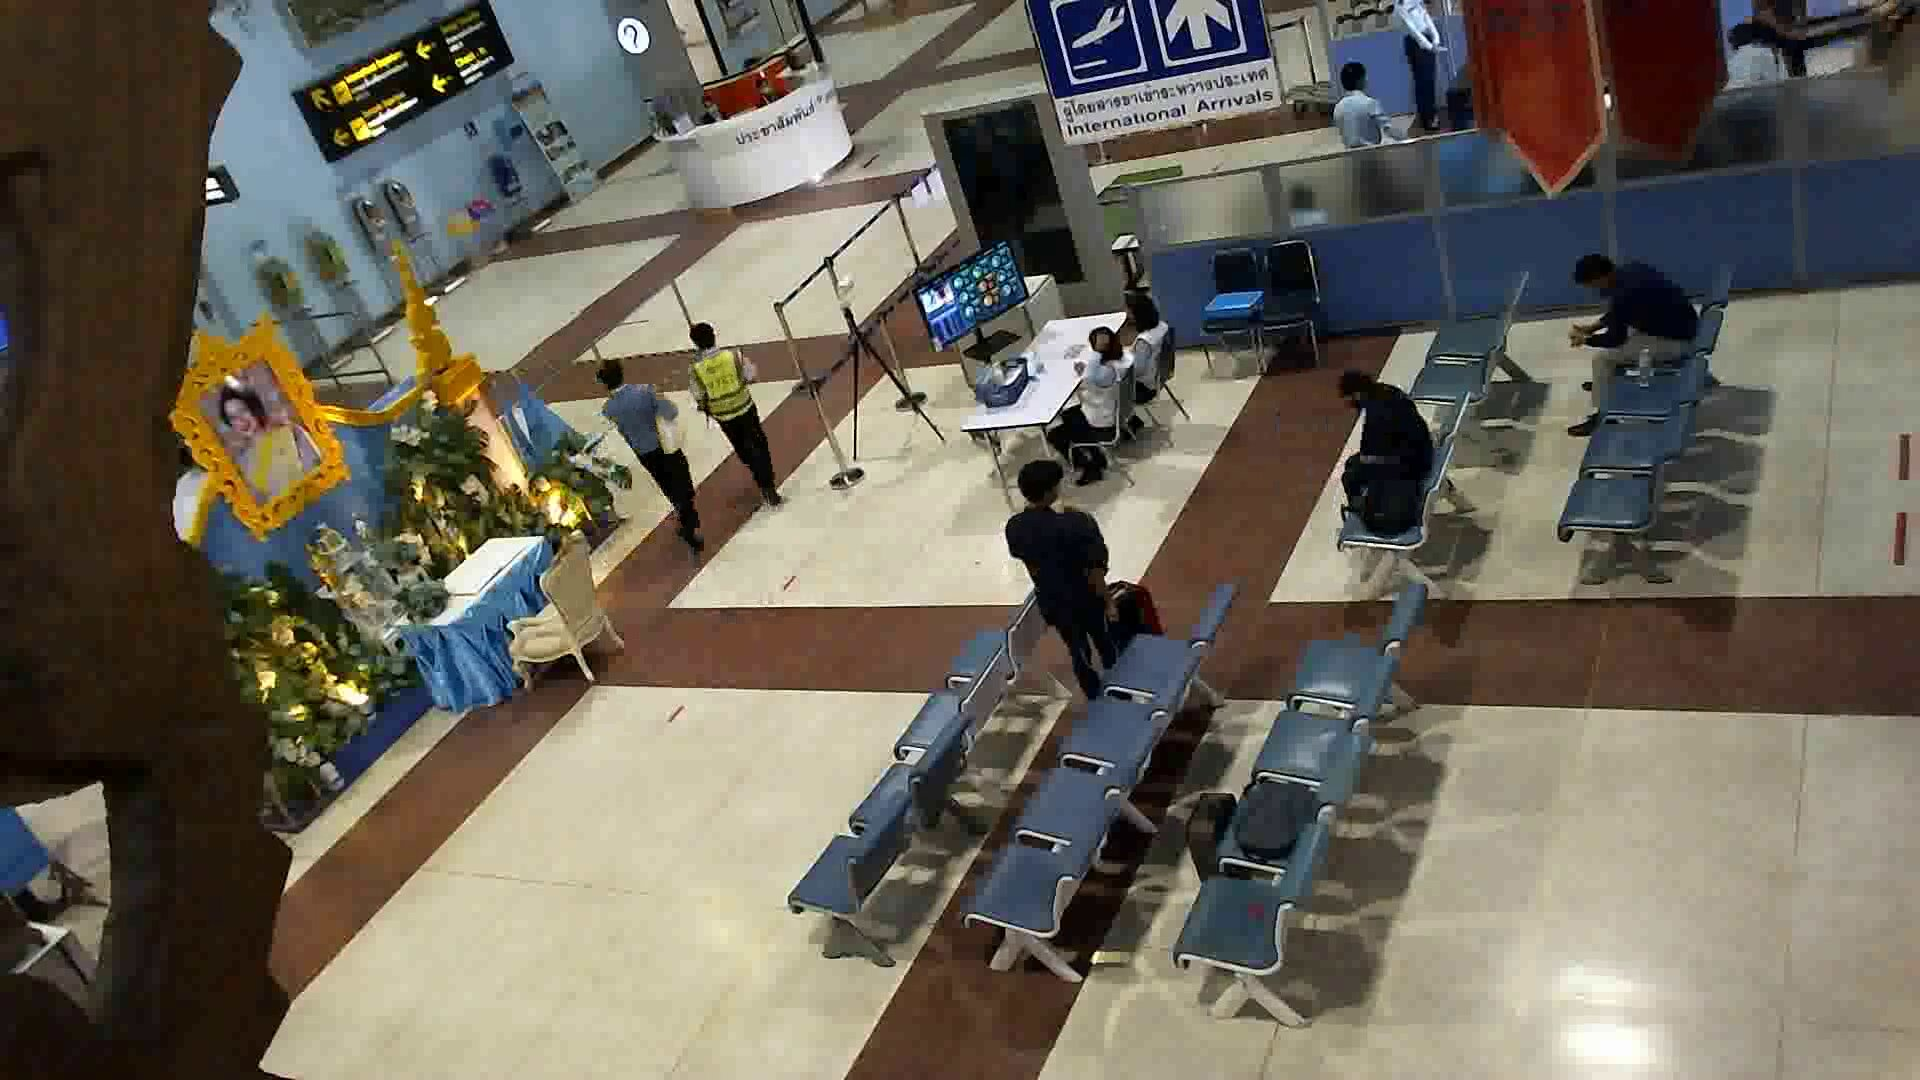backpack: (1229, 768, 1316, 870), (1354, 478, 1439, 541)
luggage: (1168, 788, 1245, 891), (1093, 584, 1162, 651)
people: (1012, 451, 1139, 726), (589, 355, 706, 576), (681, 309, 801, 520), (1572, 245, 1699, 432), (1058, 328, 1137, 493), (1335, 366, 1428, 480), (1118, 288, 1187, 420)
